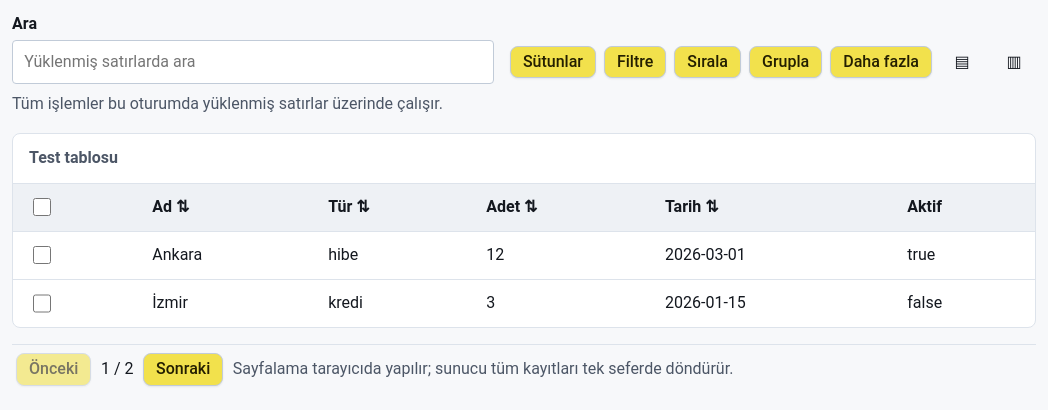
Test: pagination › pages the loaded rows and labels the mechanism
Expected: the navigation bar "Sayfalama" shows "1 / 2", [12, 344, 1036, 394]
Expected: the navigation bar "Sayfalama" shows "tarayıcıda", [233, 359, 733, 378]
Step 1. Click the button "Sonraki" → [183, 370], box [143, 353, 223, 386]
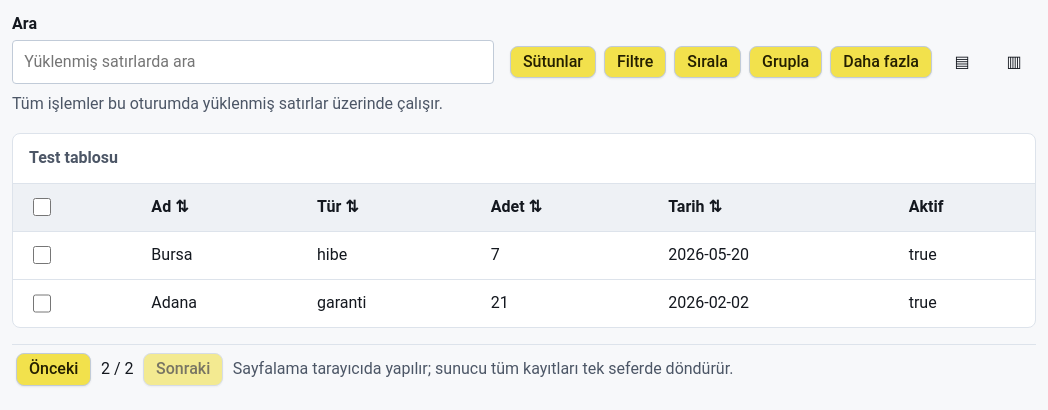
Expected: the text "Bursa" is shown, [135, 231, 301, 279]
